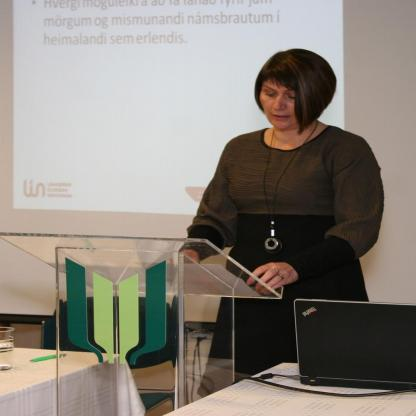board: (292, 298, 416, 391)
